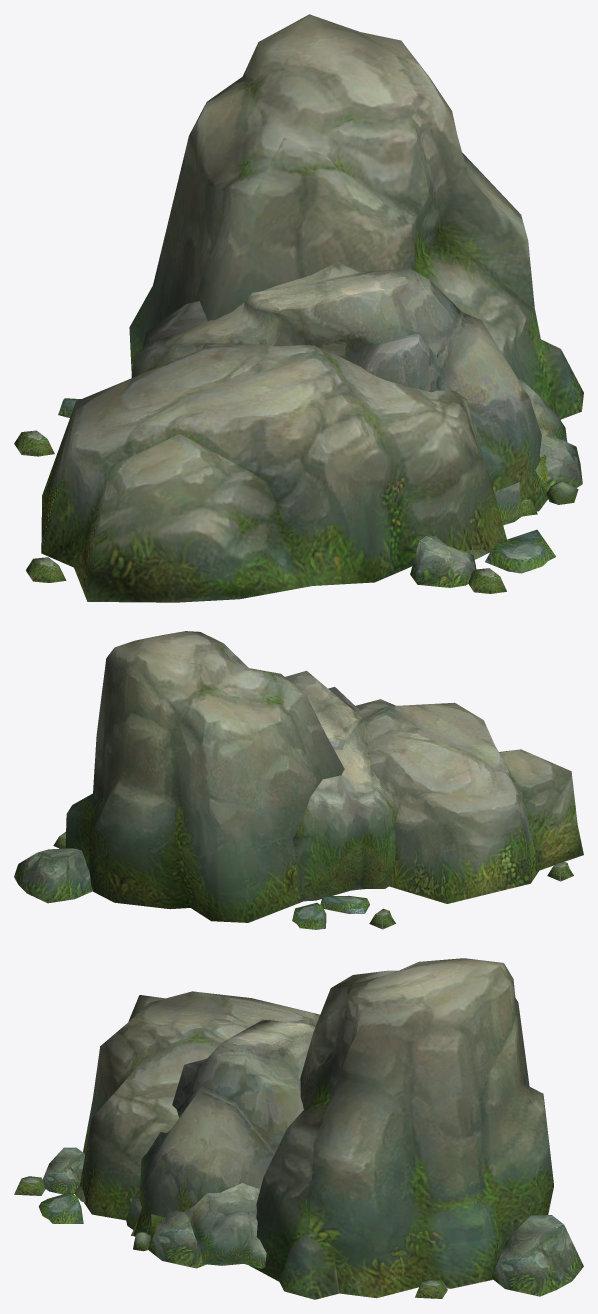
The model's file is rocks.fbx.
The picture shows the model from 3 angles, top to bottom: view 1: azimuth 30°, elevation 25°; view 2: azimuth 150°, elevation 25°; view 3: azimuth 270°, elevation 25°; orthographic projection. The views are drawn at different scales.
Parts seen in each view (by area): view 1: rock1, rock4, rock3; view 2: rock1, rock4; view 3: rock1, rock4, rock3.
Boxes of the visible parts, x1,y1,x2,y2 form: rock1: (14, 14, 583, 602); rock4: (131, 262, 547, 511); rock3: (465, 379, 578, 559); rock1: (14, 631, 583, 929); rock4: (285, 670, 397, 901); rock1: (14, 958, 583, 1299); rock4: (133, 1020, 315, 1242); rock3: (74, 1183, 266, 1268).
Size of the model in its own units: 4.01 by 2.09 by 4.01.
1 material, 1 textured.
